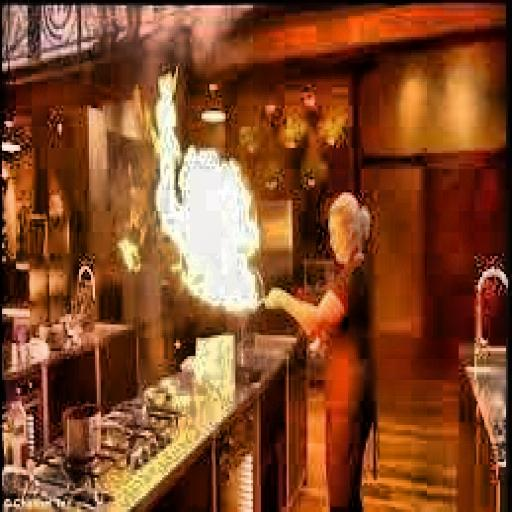fire: (128, 74, 302, 317)
